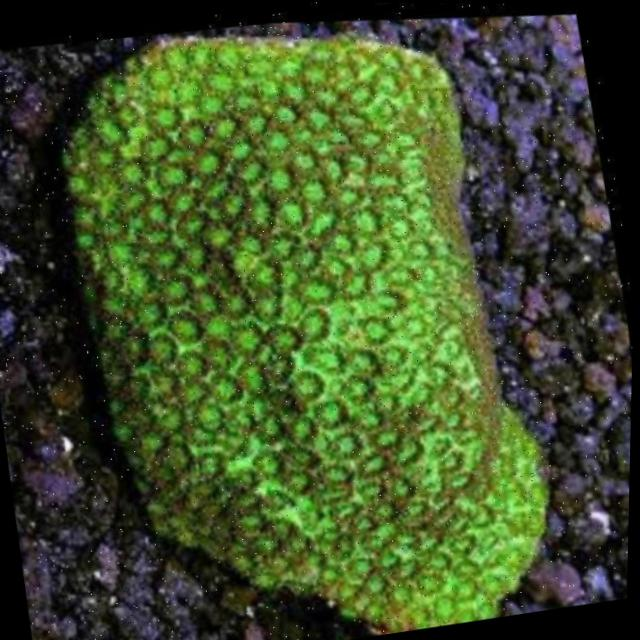Healthy Coral: (6, 0, 610, 640)
